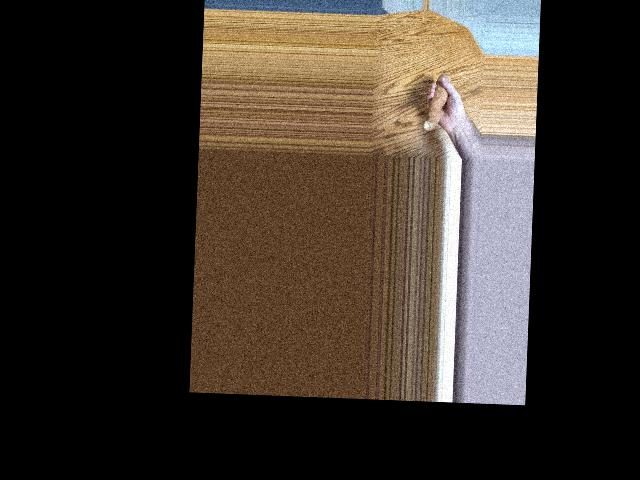sweet_potato: (423, 70, 450, 134)
